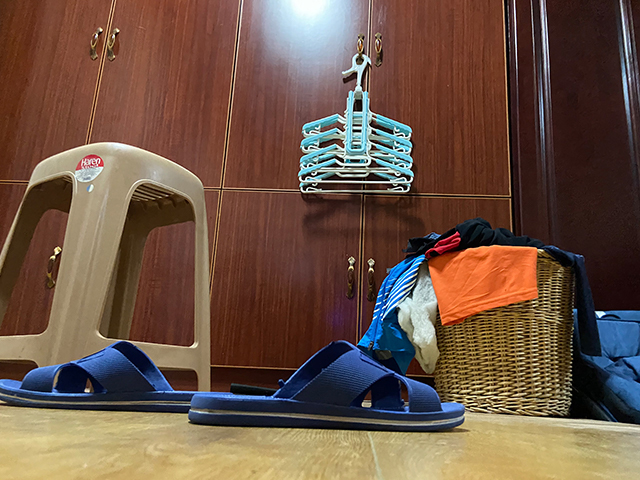cabinet: (1, 1, 516, 393)
slippers: (189, 338, 466, 430), (1, 336, 187, 413)
stool: (1, 141, 212, 393)
